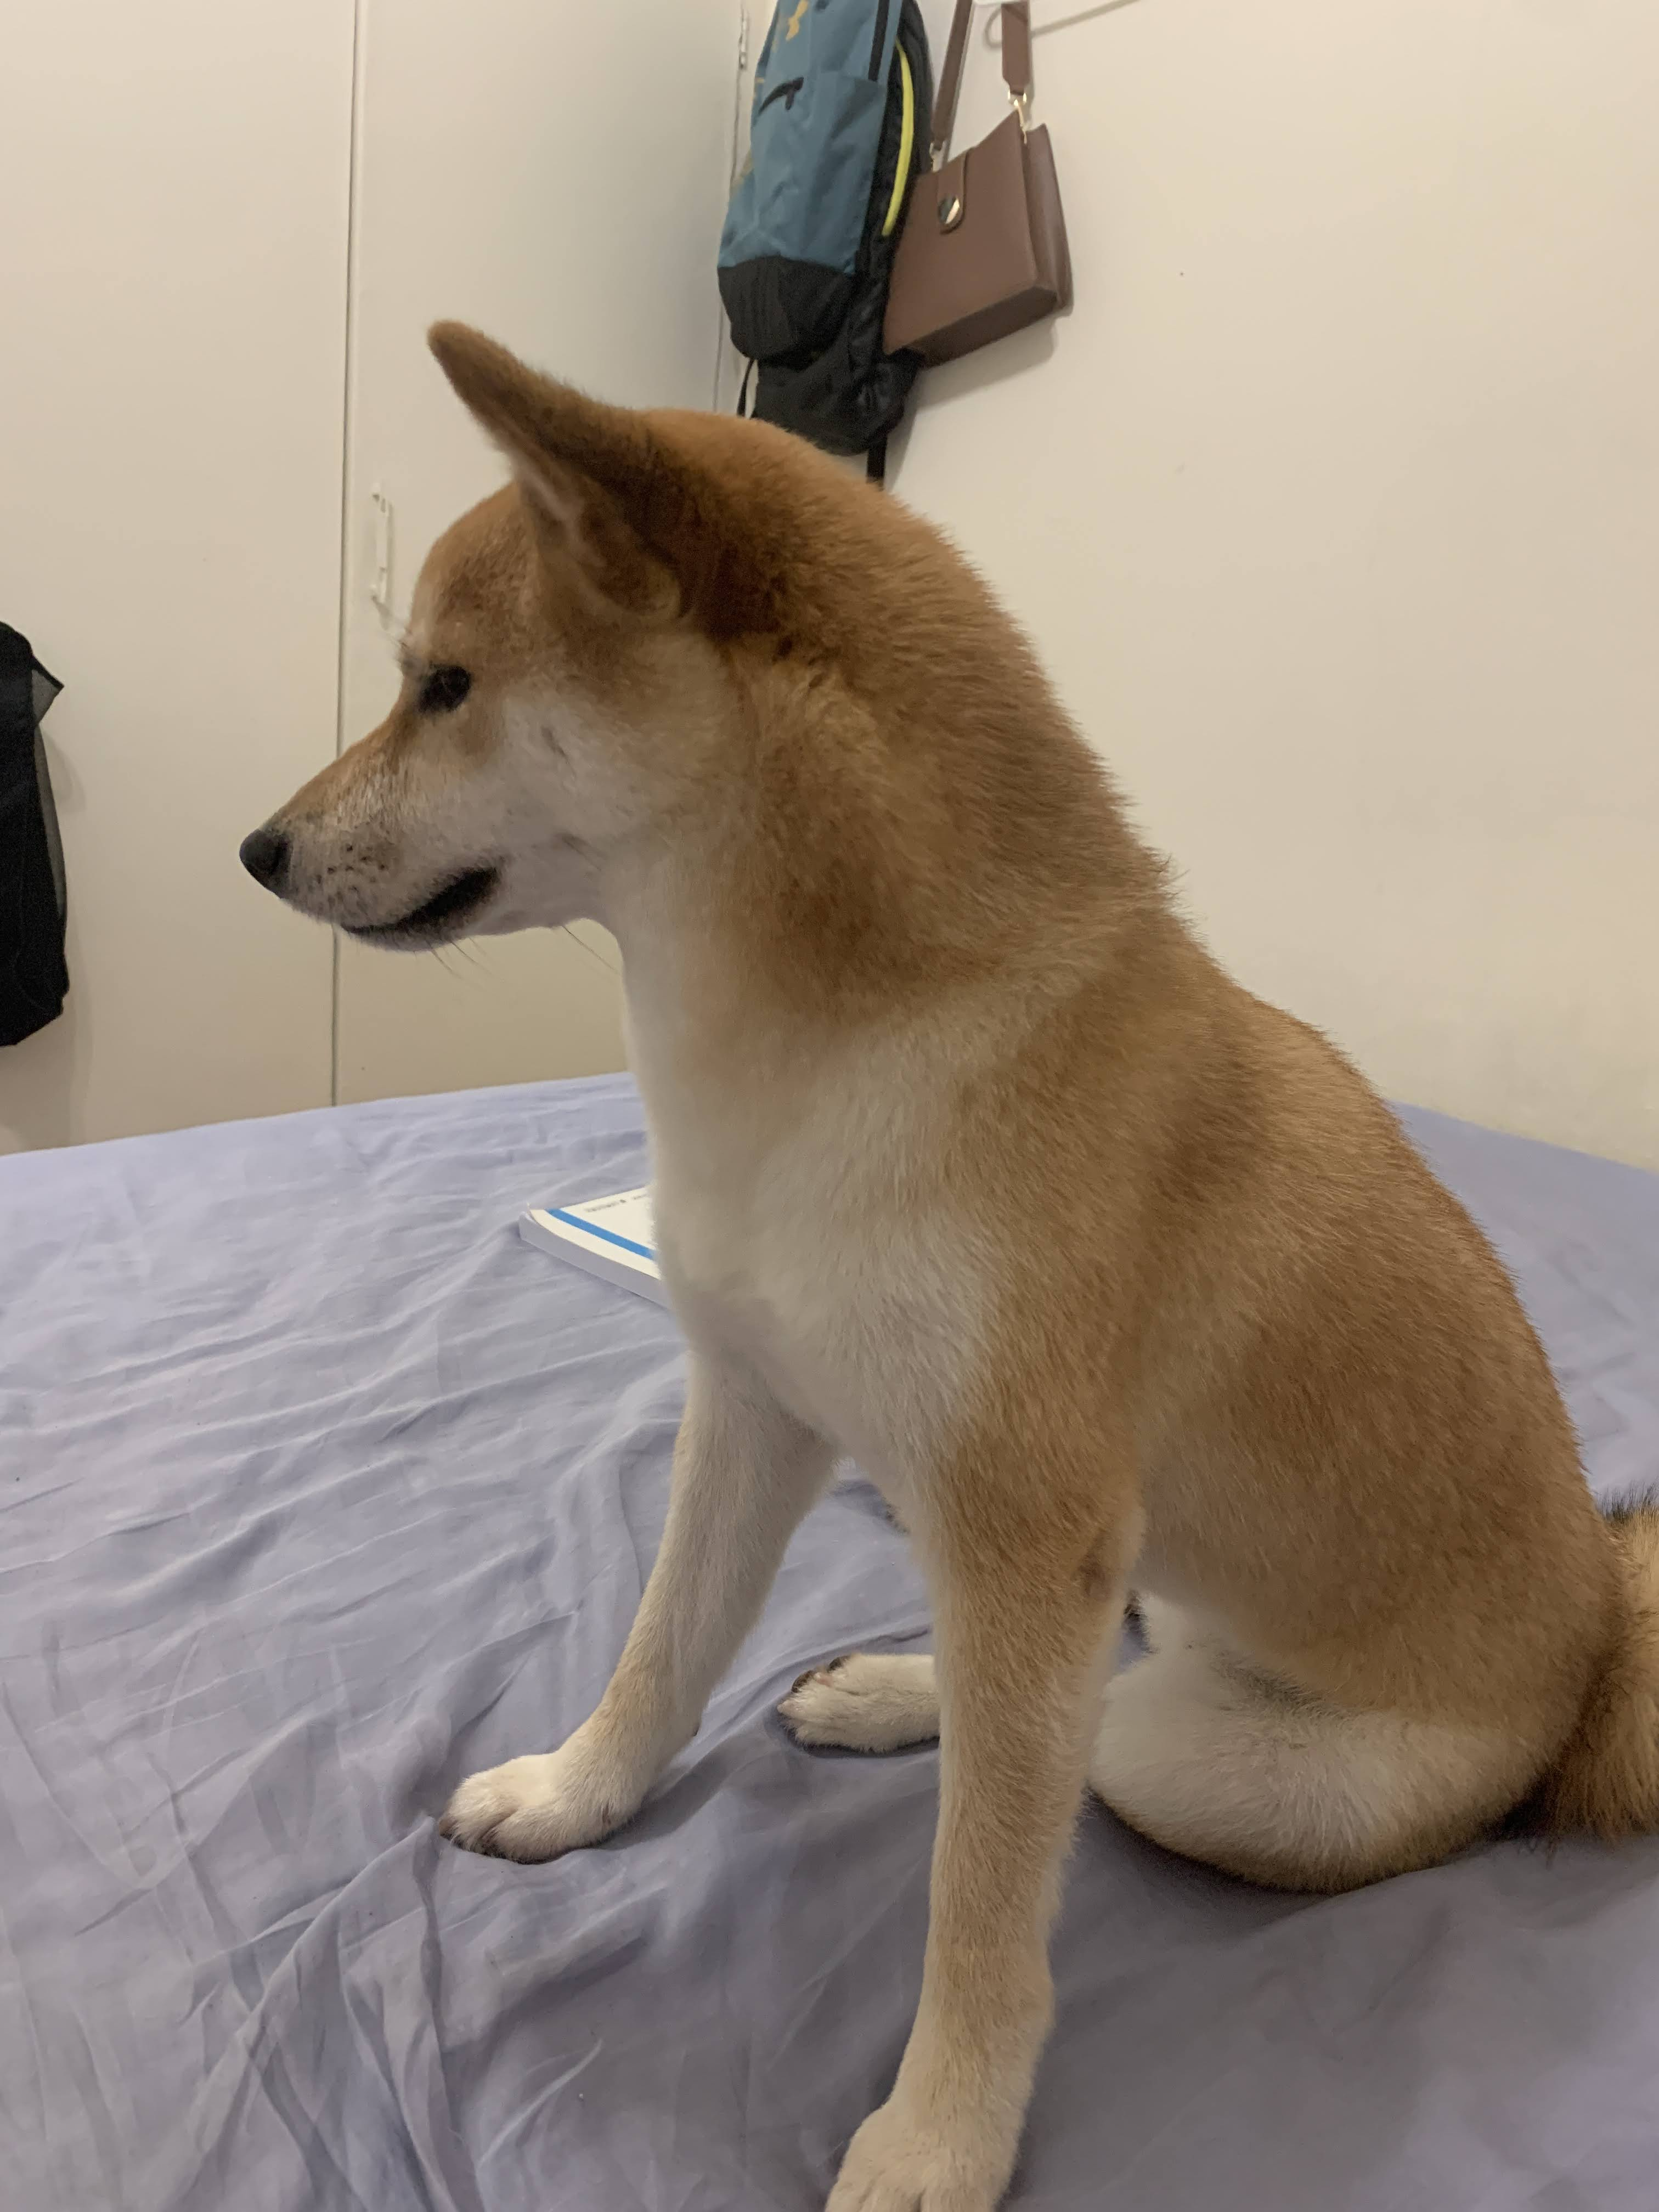Sit down: (246, 254, 1659, 2212)
